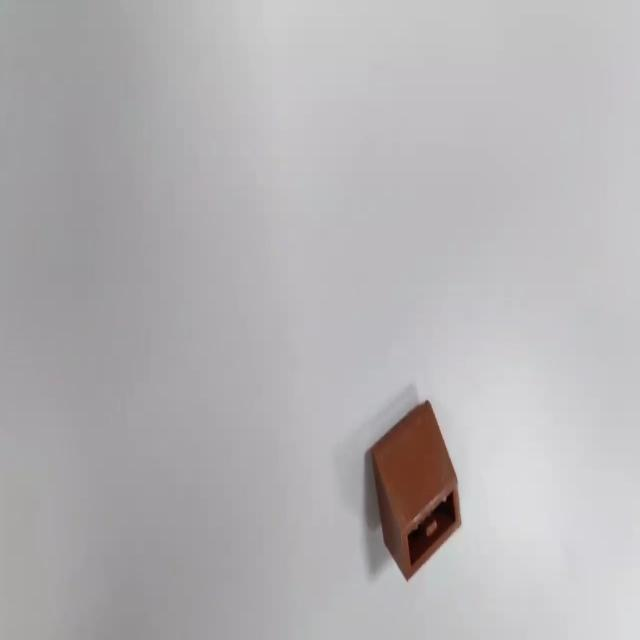X2x2x1: (368, 398, 462, 582)
